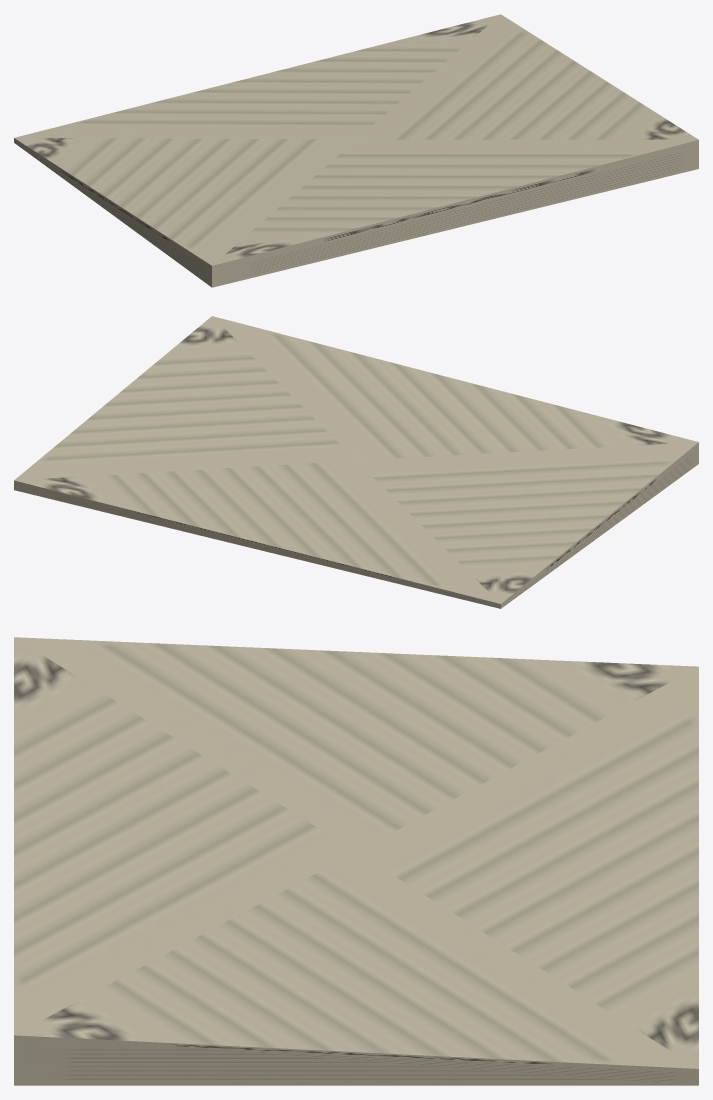
The model's file is litter_paper.glb.
3 renders of one model, top to bottom at view 1: azimuth 30°, elevation 25°; view 2: azimuth 150°, elevation 25°; view 3: azimuth 270°, elevation 25°, orthographic. The views are drawn at different scales.
Visible parts, largest first — view 1: arcade_litter_paper; view 2: arcade_litter_paper; view 3: arcade_litter_paper.
Part boxes in pixels (box(x1,y1,x2,y2)): arcade_litter_paper: box(14, 14, 698, 287); arcade_litter_paper: box(14, 316, 698, 608); arcade_litter_paper: box(14, 637, 698, 1085).
Bounding box in the file's own units: 0.21 × 0.012 × 0.148.
Materials: 1 (1 with a texture image).
